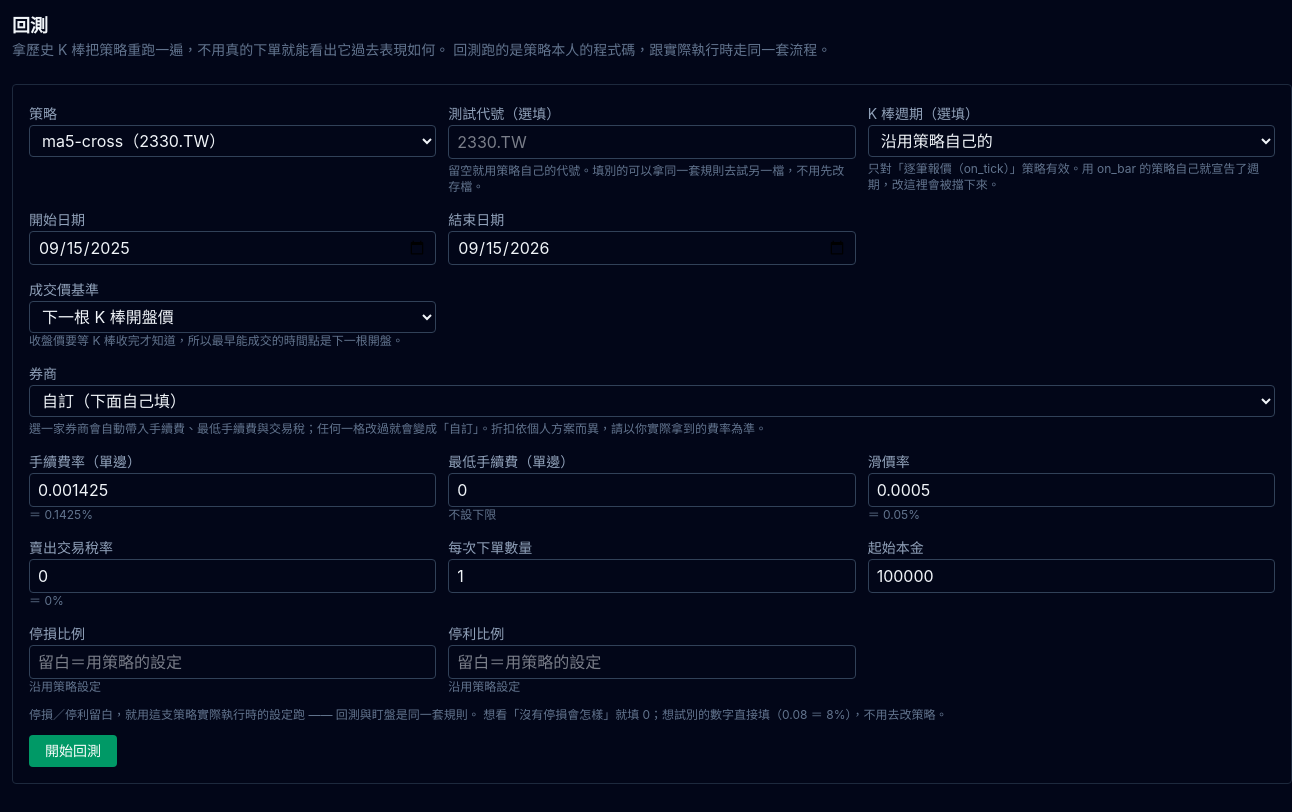
Test case: BacktestPage › locks the button and says the wait is expected while bars are replayed
The width and height of the screenshot is (1292, 812).
Click the button "開始回測". click: coordinates (73, 751)
box: [29, 735, 117, 767]
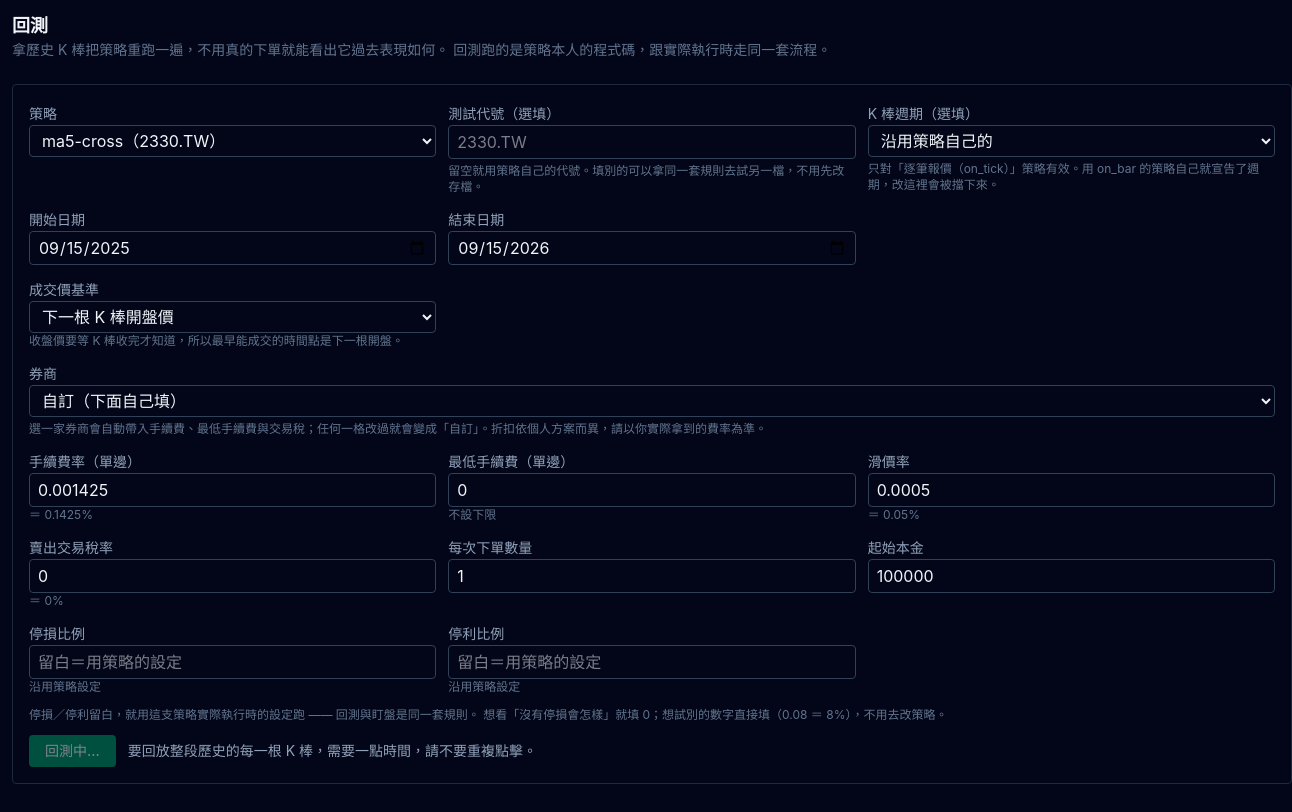
expect the button "回測中…" is disabled: met, box [29, 735, 116, 767]
expect the text "要回放整段歷史的每一根 K 棒，需要一點時間，請不要重複點擊。" is shown: met, box [128, 741, 537, 761]
expect the button "開始回測" is gone: met
